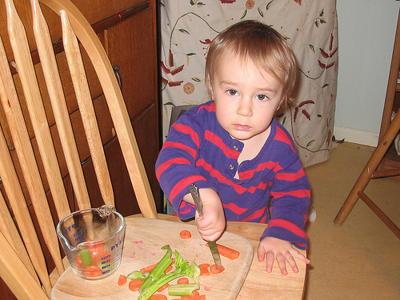person: (150, 19, 315, 276)
